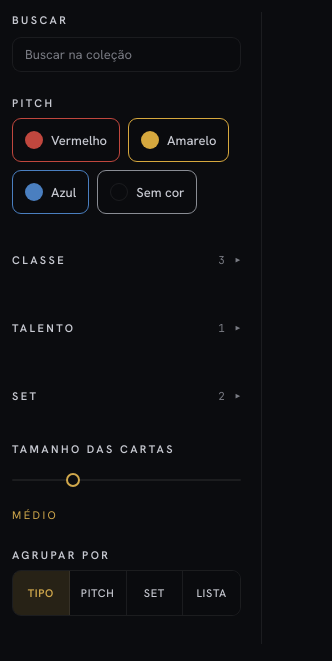
Test case: LibraryFilterRail — class/talent/set accordion sections › collapses by default and reveals options when expanded
The image size is (332, 661).
Expected: the checkbox labelled "Brute" is not shown
Click the button "Classe 3 ▾".
click(126, 260)  # box left=12, top=238, right=241, bottom=282
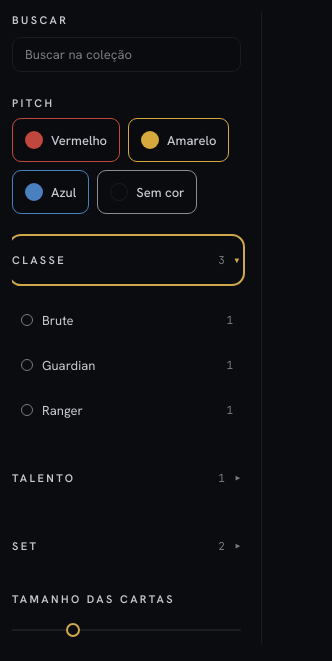
Expected: the checkbox labelled "Brute 1" is shown, left=12, top=298, right=241, bottom=342
Expected: the checkbox labelled "Ranger 1" is shown, left=12, top=388, right=241, bottom=432
